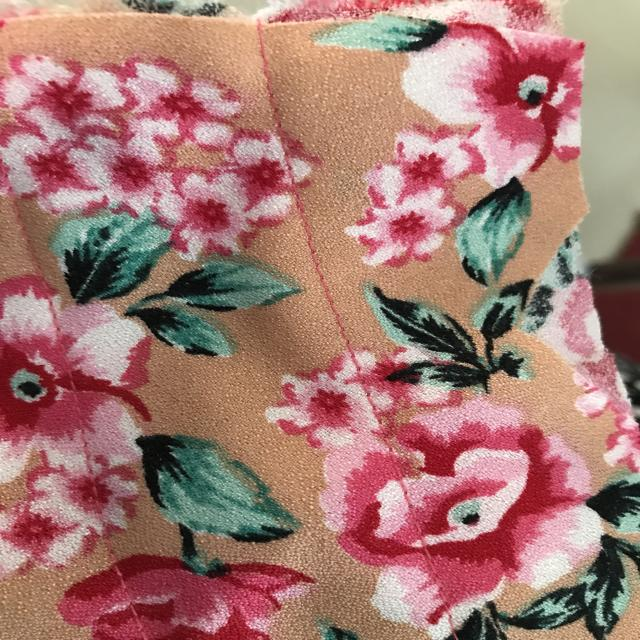good: (292, 237, 360, 319)
